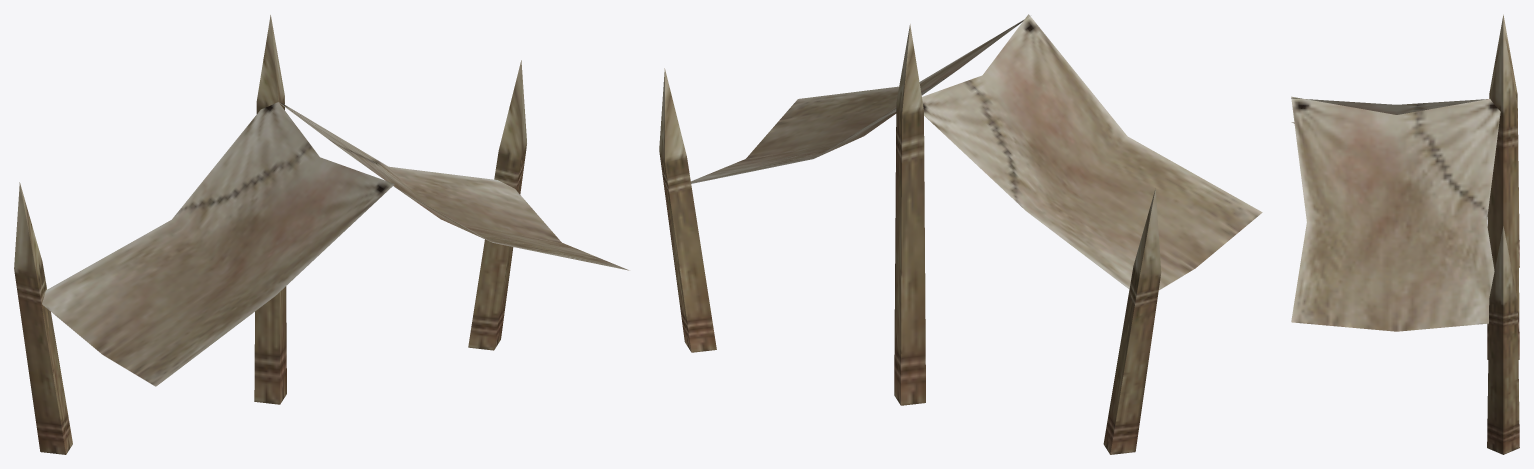
File: cangku02_R.fbx
3 views of the same model, side by side, from view 1: azimuth 30°, elevation 25°; view 2: azimuth 150°, elevation 25°; view 3: azimuth 270°, elevation 25° (orthographic). The views are drawn at different scales.
Visible parts, largest first — view 1: cangku02_R; view 2: cangku02_R; view 3: cangku02_R.
Part boxes in pixels (x1,y1,x2,y2): cangku02_R: (14, 15, 629, 454); cangku02_R: (659, 14, 1262, 454); cangku02_R: (1291, 14, 1519, 454).
Bounding box in the file's own units: 5.85 × 4.18 × 2.61.
